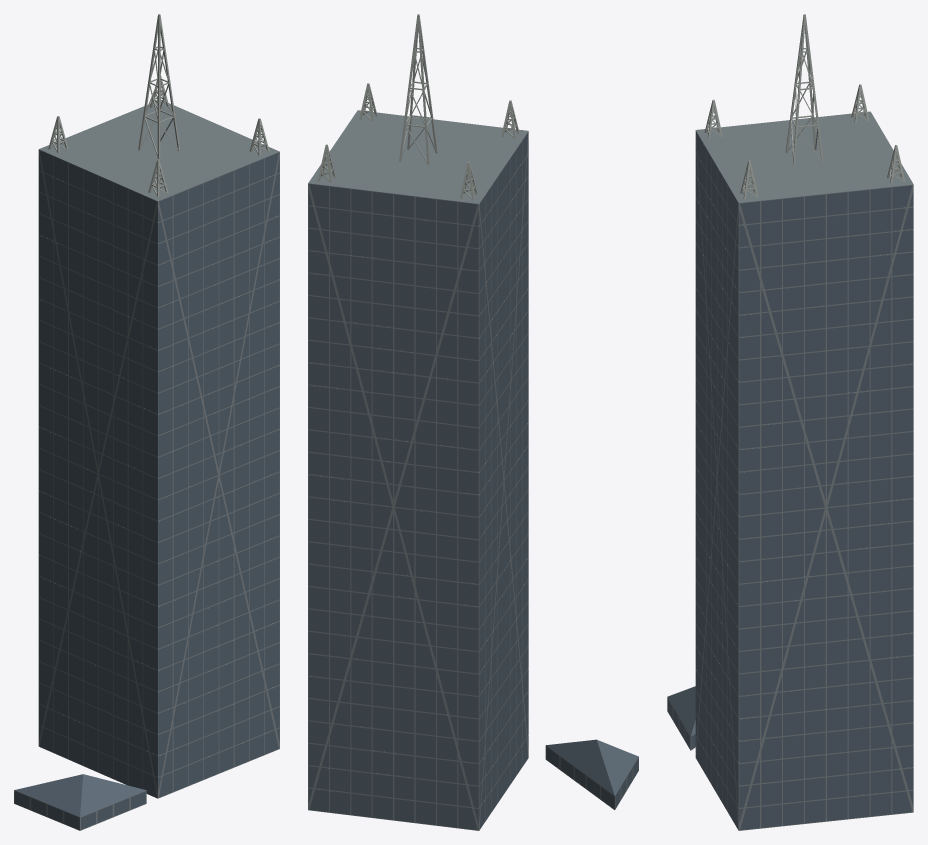
Rendered from renaissance-tower-dallas-far.glb.
3 views of the same model, side by side, from view 1: azimuth 30°, elevation 25°; view 2: azimuth 150°, elevation 25°; view 3: azimuth 270°, elevation 25° (orthographic). The views are drawn at different scales.
Parts seen in each view (by area): view 1: renaissance-tower-dallas-0-glass, renaissance-tower-dallas-0-stone, renaissance-tower-dallas-0-roof, renaissance-tower-dallas-0-metal; view 2: renaissance-tower-dallas-0-glass, renaissance-tower-dallas-0-stone, renaissance-tower-dallas-0-roof, renaissance-tower-dallas-0-metal; view 3: renaissance-tower-dallas-0-glass, renaissance-tower-dallas-0-stone, renaissance-tower-dallas-0-roof, renaissance-tower-dallas-0-metal.
Part boxes in pixels (bbox=[...]): renaissance-tower-dallas-0-glass: bbox=[14, 150, 279, 829]; renaissance-tower-dallas-0-stone: bbox=[14, 149, 279, 830]; renaissance-tower-dallas-0-roof: bbox=[39, 99, 279, 201]; renaissance-tower-dallas-0-metal: bbox=[48, 14, 269, 196]; renaissance-tower-dallas-0-glass: bbox=[308, 132, 638, 830]; renaissance-tower-dallas-0-stone: bbox=[308, 131, 638, 830]; renaissance-tower-dallas-0-roof: bbox=[308, 110, 528, 203]; renaissance-tower-dallas-0-metal: bbox=[317, 14, 519, 200]; renaissance-tower-dallas-0-glass: bbox=[667, 132, 913, 830]; renaissance-tower-dallas-0-stone: bbox=[667, 130, 913, 830]; renaissance-tower-dallas-0-roof: bbox=[696, 111, 913, 202]; renaissance-tower-dallas-0-metal: bbox=[704, 14, 905, 198].
Size of the model in its own units: 98.45 by 270 by 78.33.
